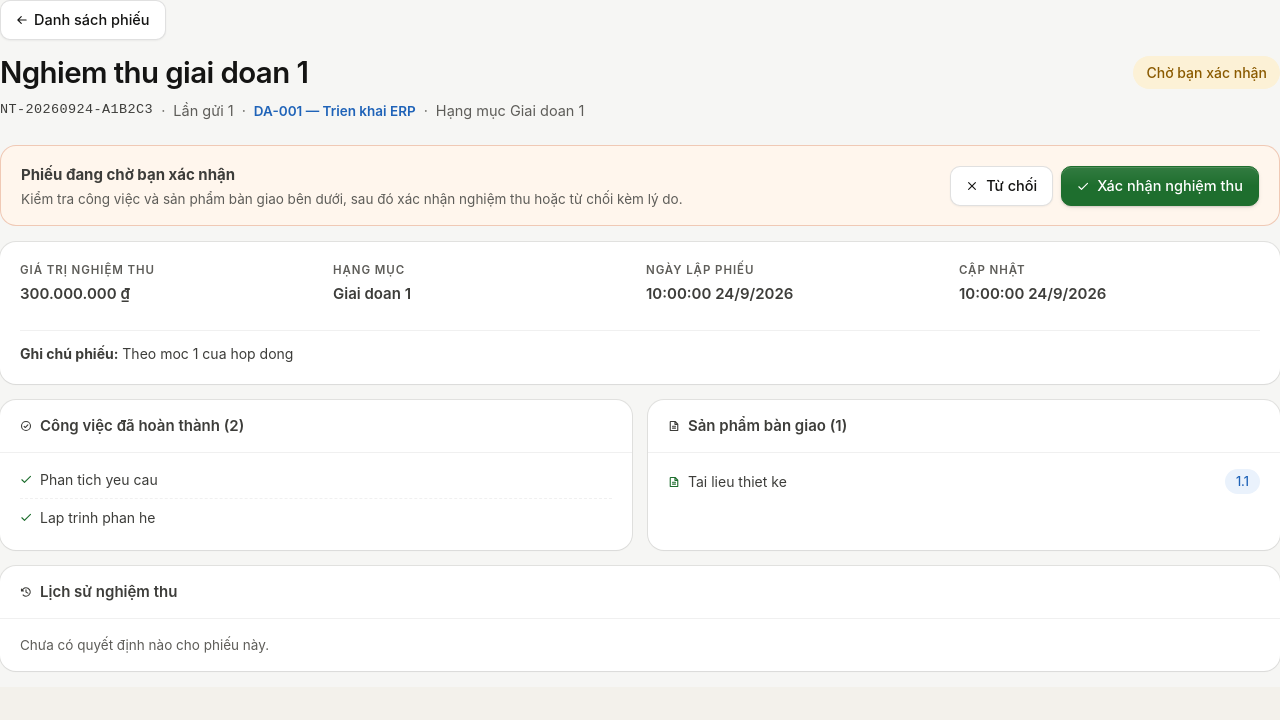
Test: NCL-13-CN-003 — Khách hàng duyệt phiếu nghiệm thu trên cổng › TC-02: từ chối kèm lý do → phiếu Đang chỉnh sửa, lý do hiển thị, lịch sử ghi quyết định
The image size is (1280, 720).
Click the button with test id "portal-open-reject" at [1002, 186], box [950, 166, 1053, 206]
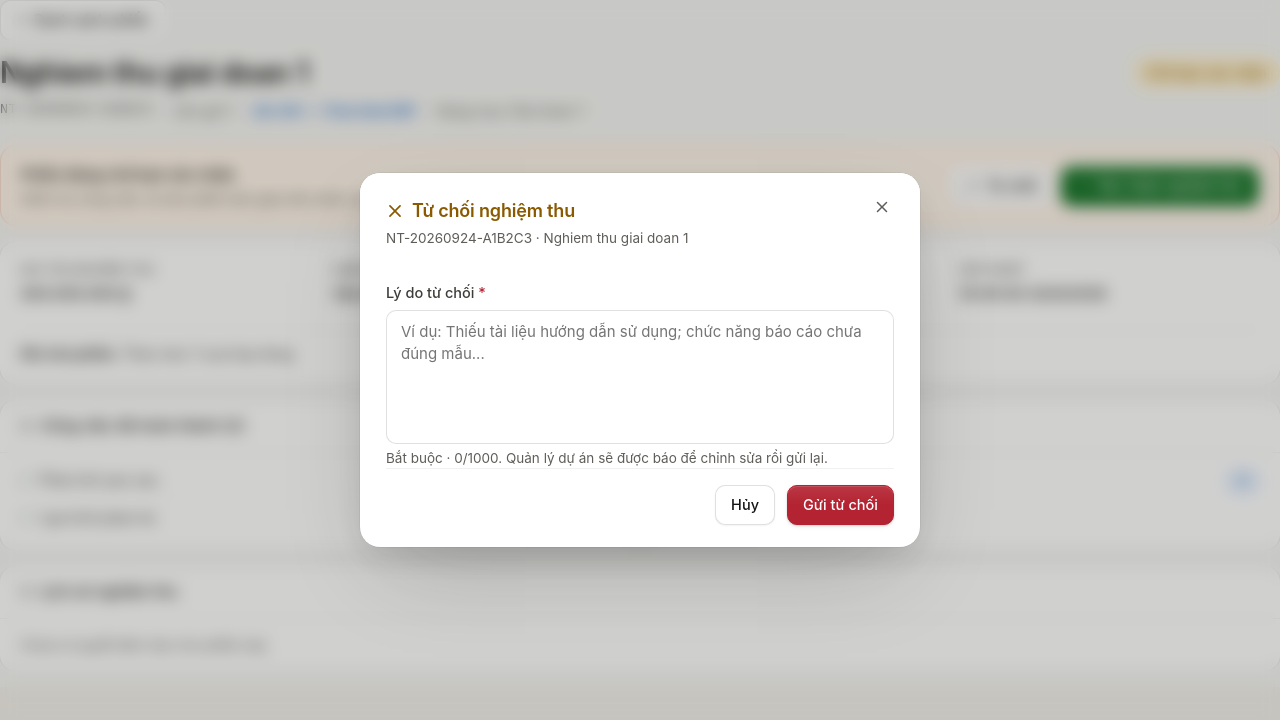
Replace the text in the text box with test id "portal-reject-reason" with "  Thieu tai lieu huong dan su dung " at [640, 377], box [386, 310, 894, 444]
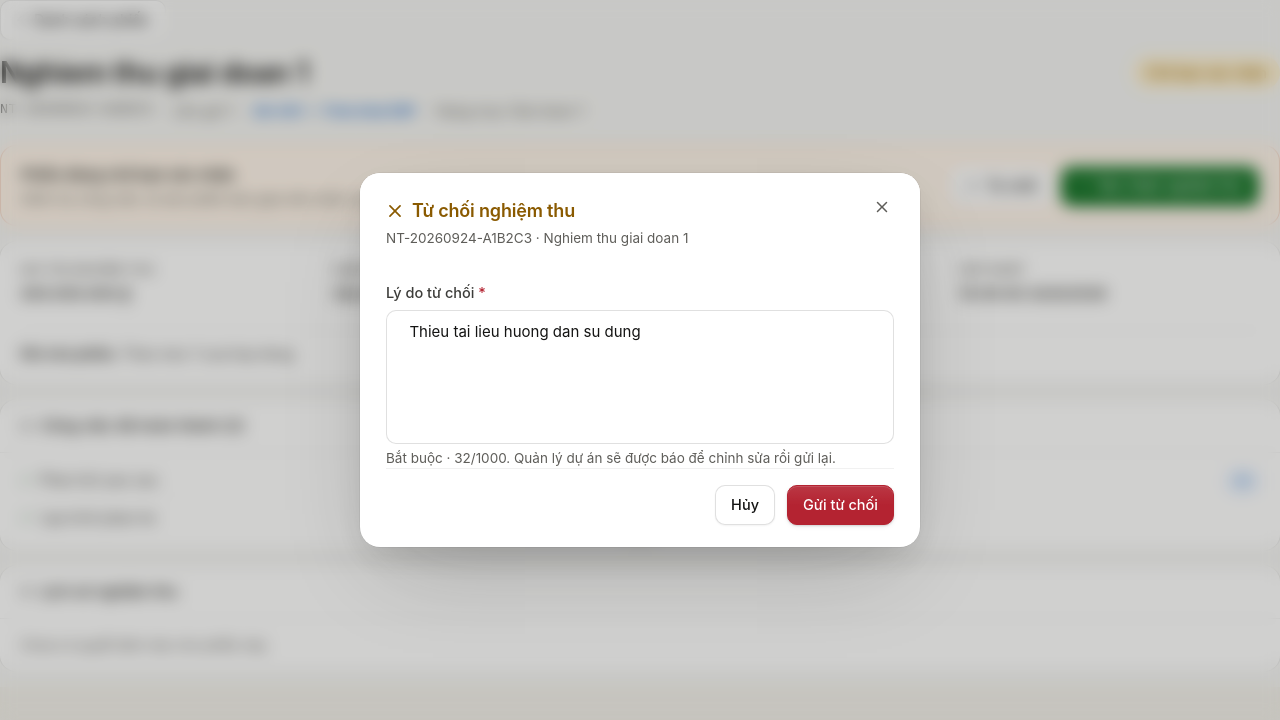
Click the button with test id "portal-decision-submit" at [840, 505], box [787, 485, 894, 525]
(page scrolled)
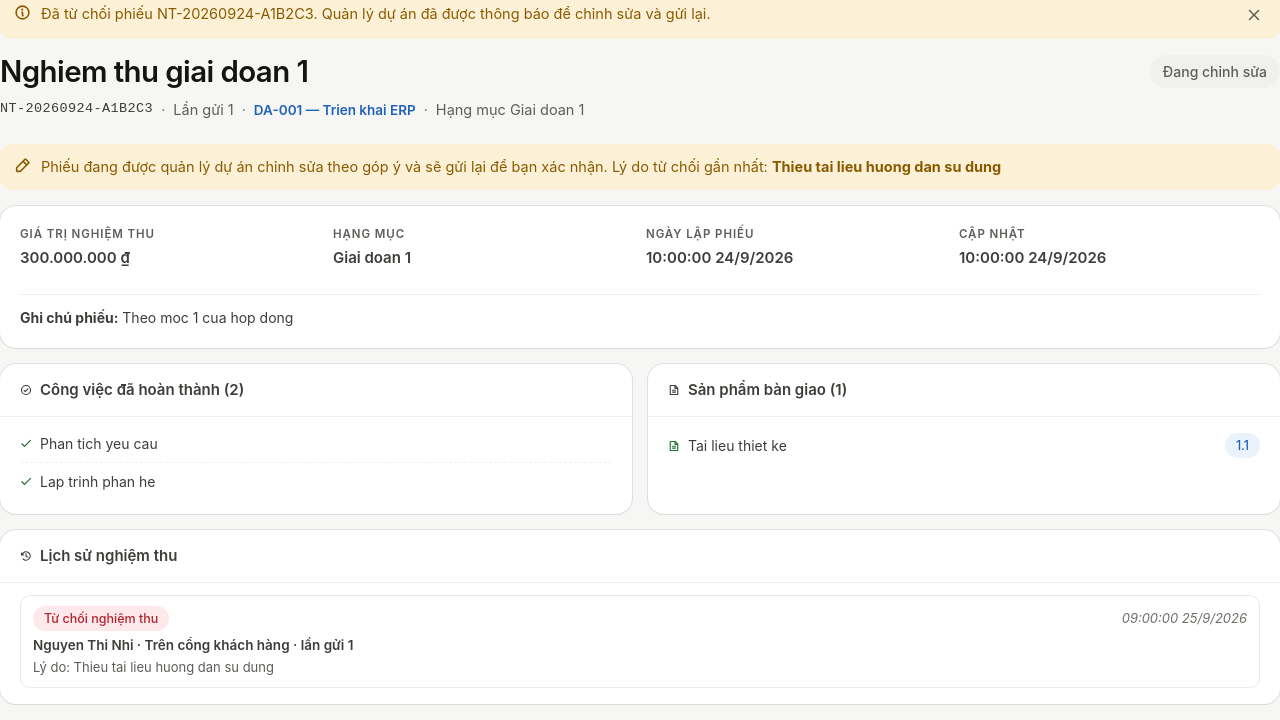
expect the element with test id "portal-acceptance-revision" shows "Thieu tai lieu huong dan su dung": met, box [772, 158, 1001, 175]
expect the element with test id "portal-acceptance-history" shows "Từ chối nghiệm thu": met, box [44, 611, 158, 626]
expect the element with test id "portal-acceptance-history" shows "Lý do: Thieu tai lieu huong dan su dung": met, box [0, 530, 1279, 704]
